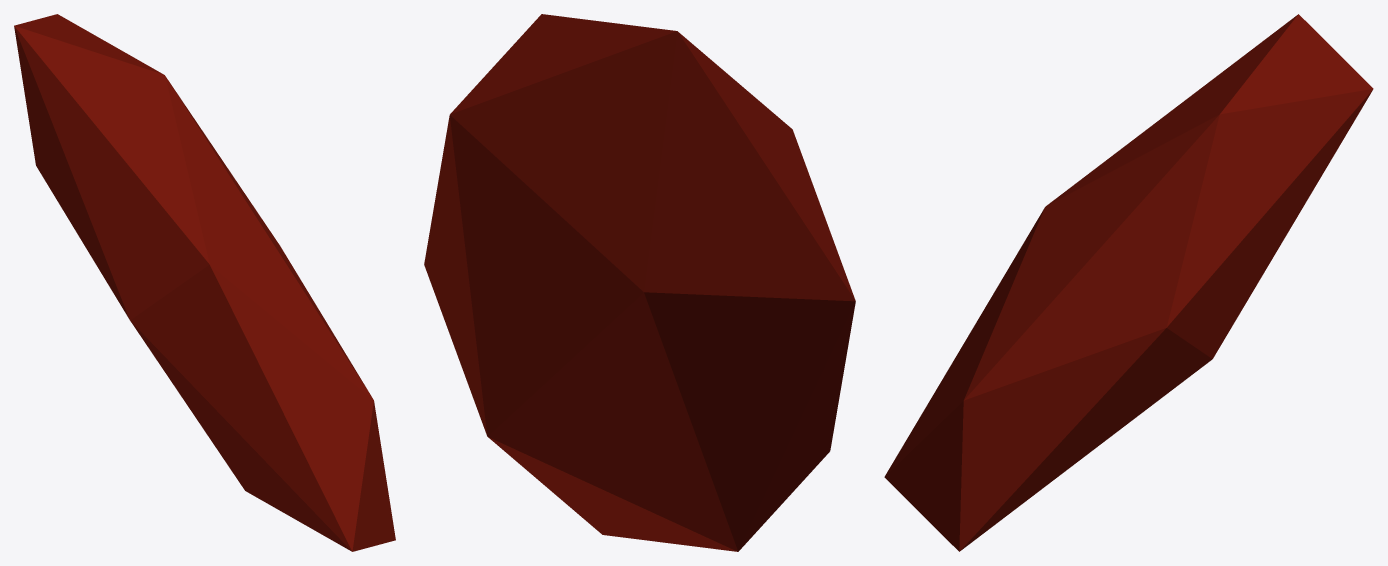
File: Platonic_13.gltf
The picture shows the model from 3 angles, left to right: view 1: azimuth 30°, elevation 25°; view 2: azimuth 150°, elevation 25°; view 3: azimuth 270°, elevation 25°; orthographic projection. The views are drawn at different scales.
Parts seen in each view (by area): view 1: Platonic_13; view 2: Platonic_13; view 3: Platonic_13.
Part boxes in pixels (left/top/right/bottom): Platonic_13: left=14, top=14, right=395, bottom=551; Platonic_13: left=424, top=14, right=855, bottom=551; Platonic_13: left=884, top=14, right=1373, bottom=551.
Bounding box in the file's own units: 14.05 × 28.09 × 28.56.
